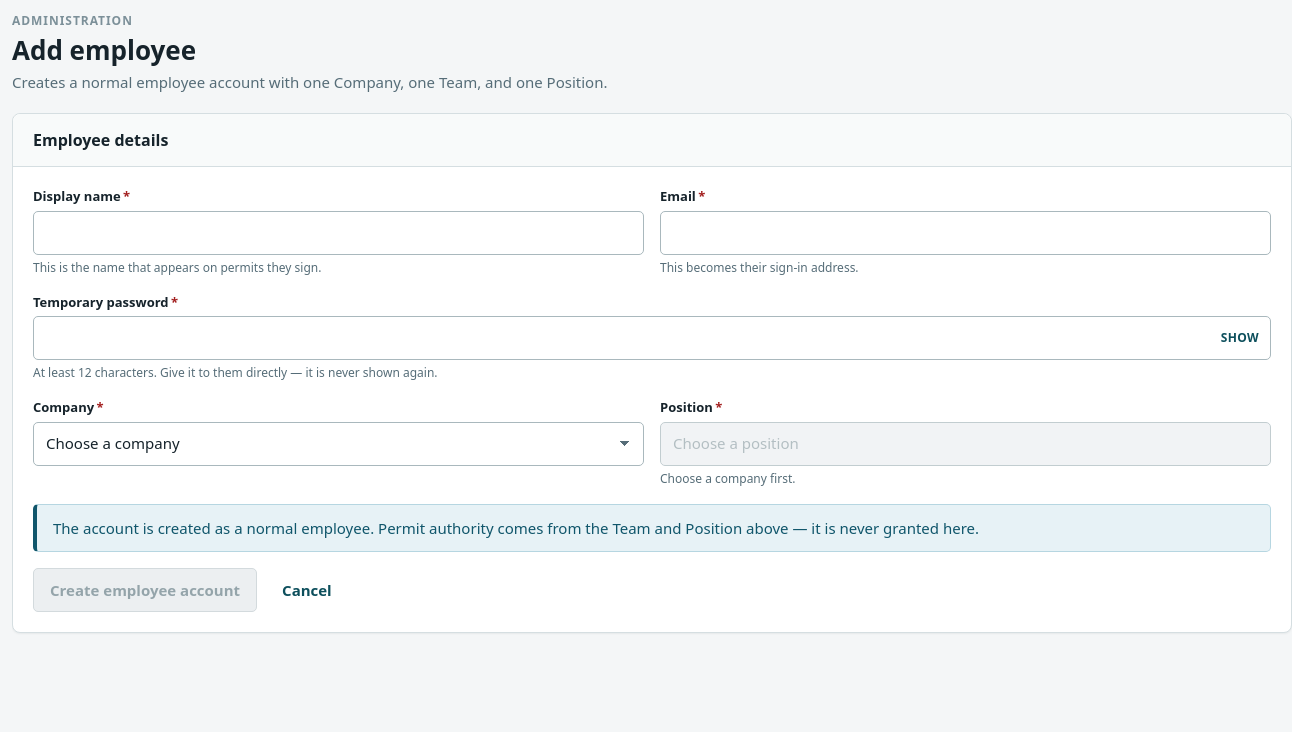
Scenario: the temporary password › is cleared from the form after a FAILED request too
Type "Ayesha Khan" into the field labelled "Display name*".
click(338, 232); type("Ayesha Khan")  # box 33,210 -> 644,254
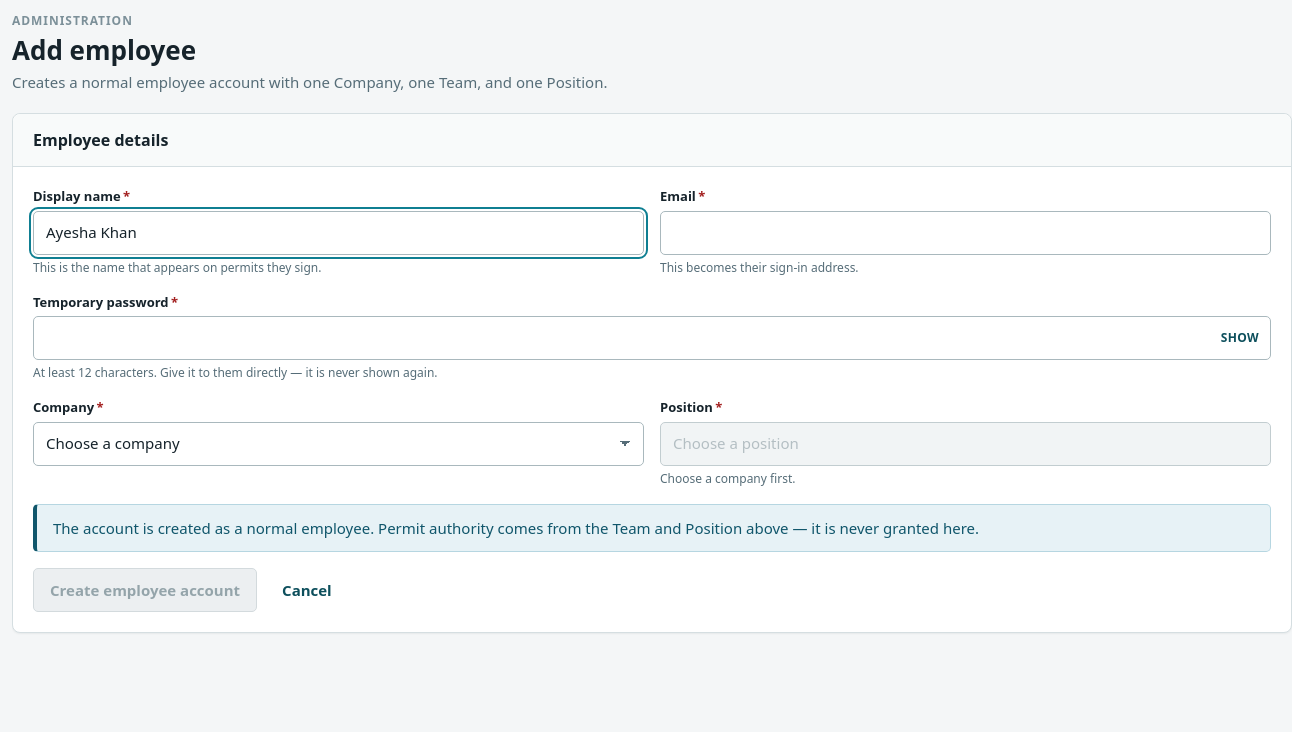
Type "ayesha@example.com" into the field labelled "Email*".
click(966, 232); type("ayesha@example.com")  # box 660,210 -> 1271,254
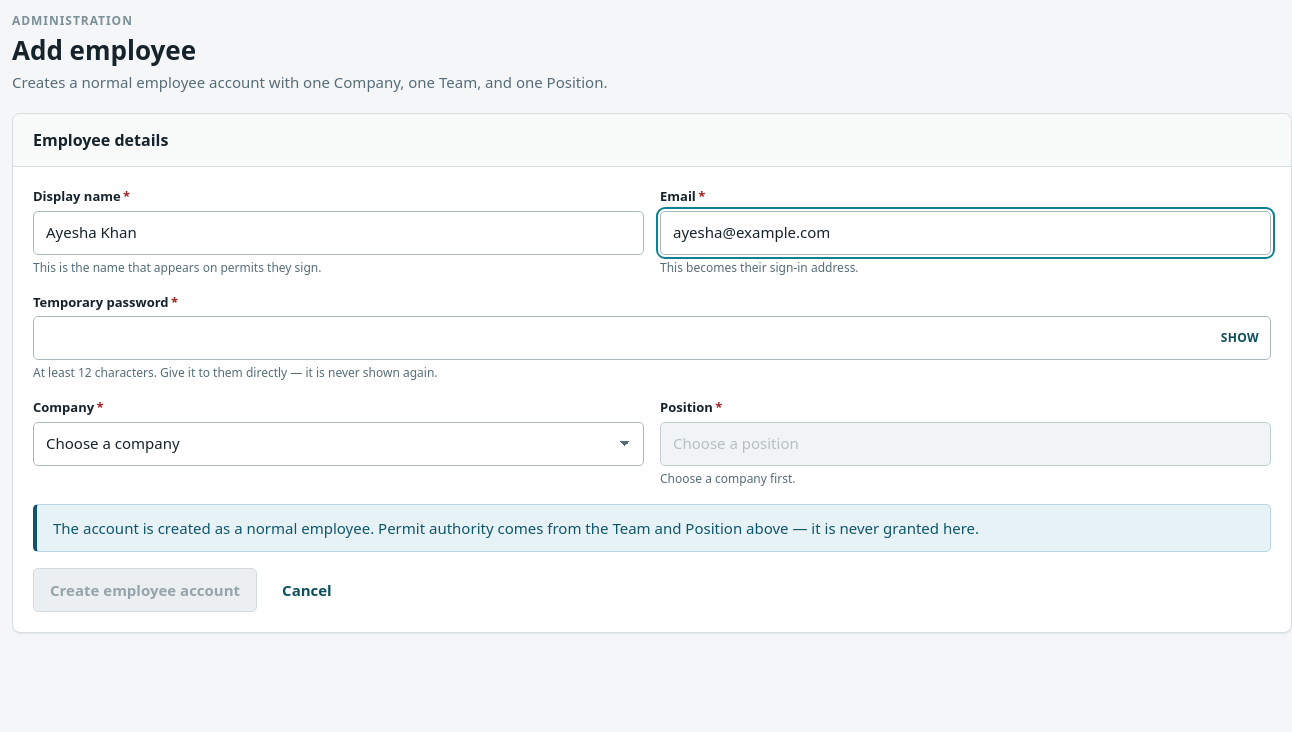
Type "a-temporary-password" into the password field labelled "Temporary password*".
click(652, 338); type("a-temporary-password")  # box 33,316 -> 1271,360
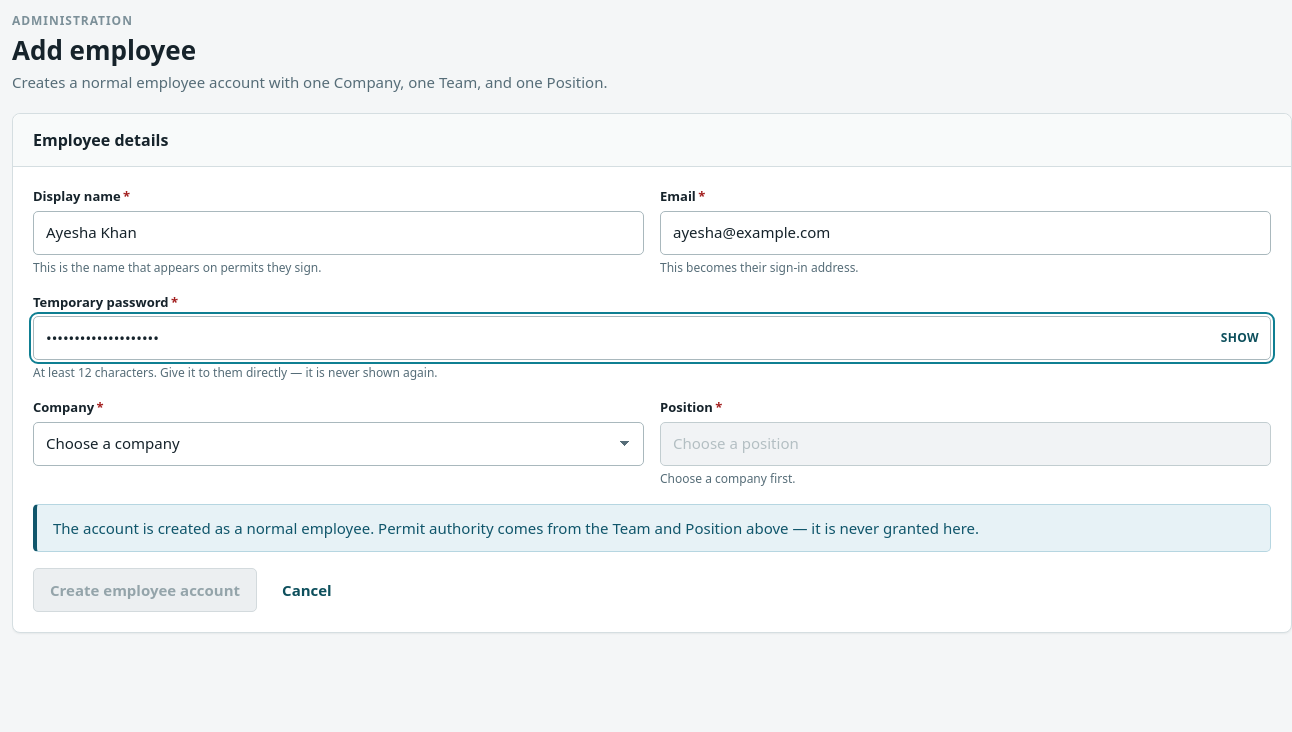
Select "ZPL" in the dropdown labelled "Company*" at (338, 444), box 33,422 -> 644,466
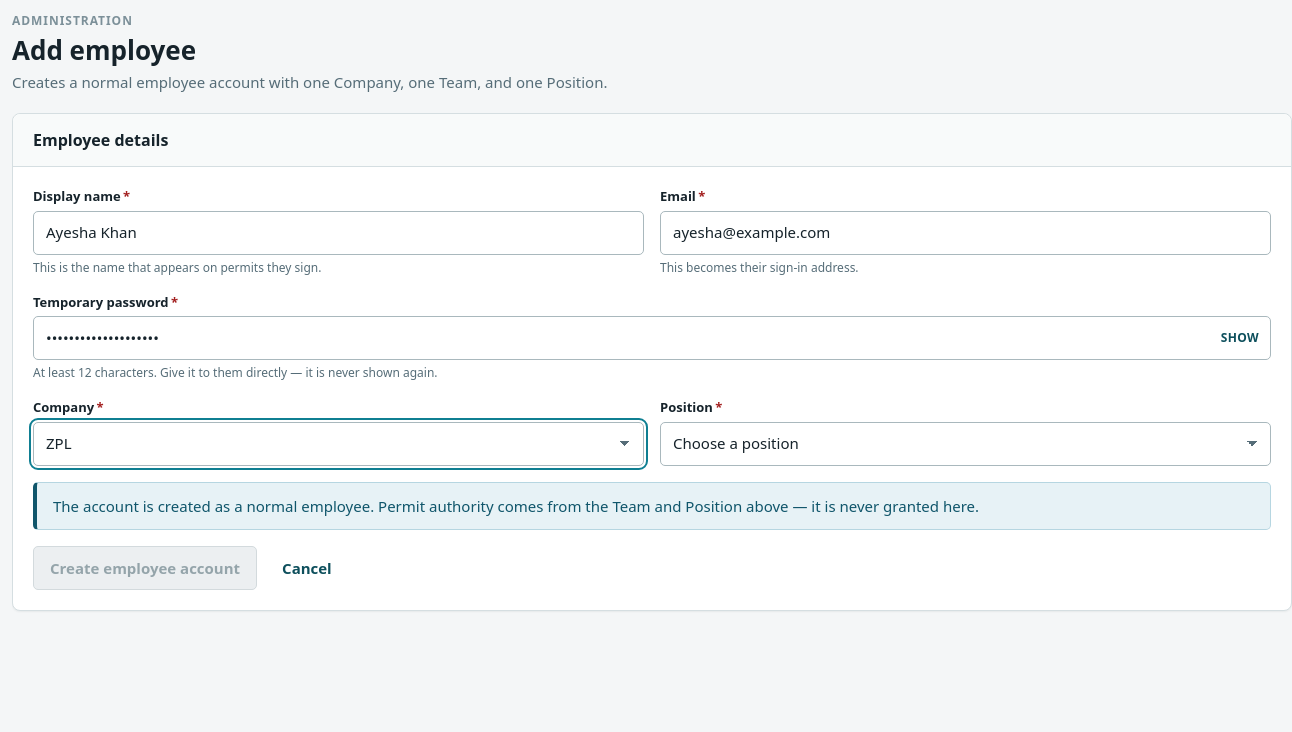
Select "Engineer" in the dropdown labelled "Position*" at (966, 444), box 660,422 -> 1271,466
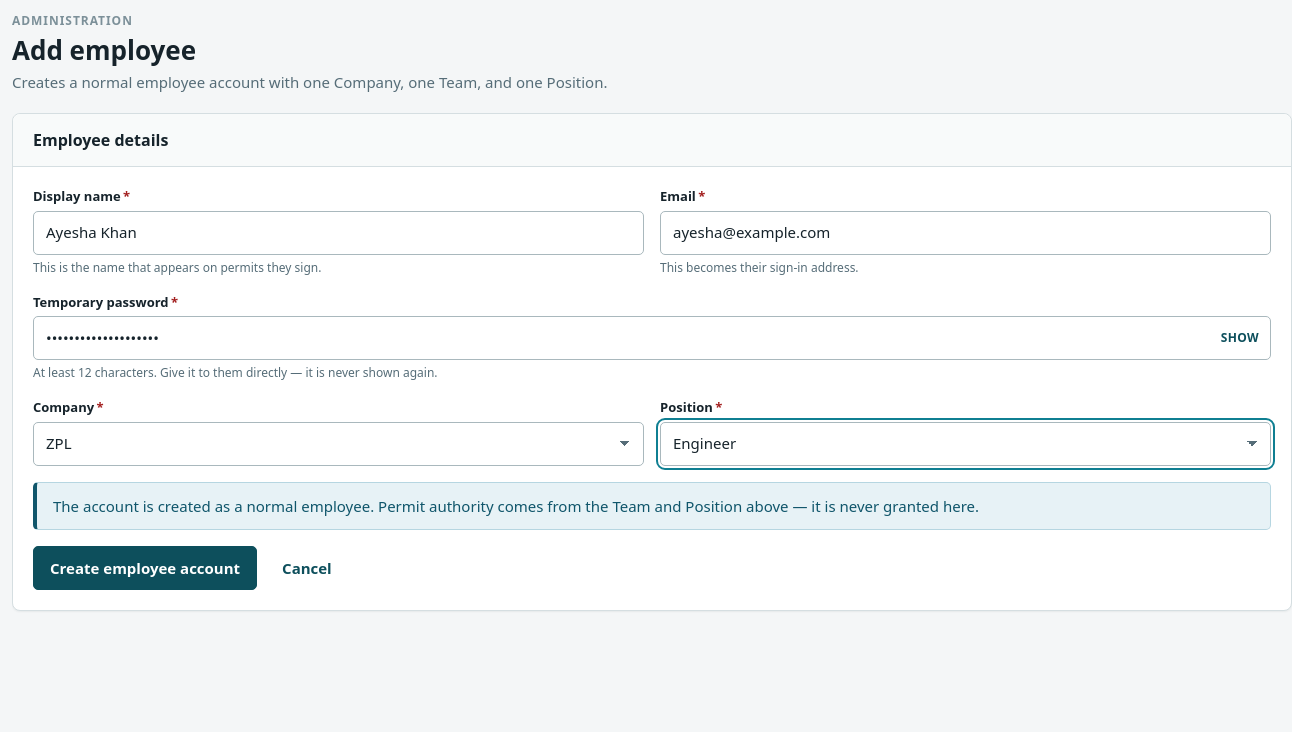
Click the button "Create employee account".
click(145, 568)  # box 33,546 -> 257,590
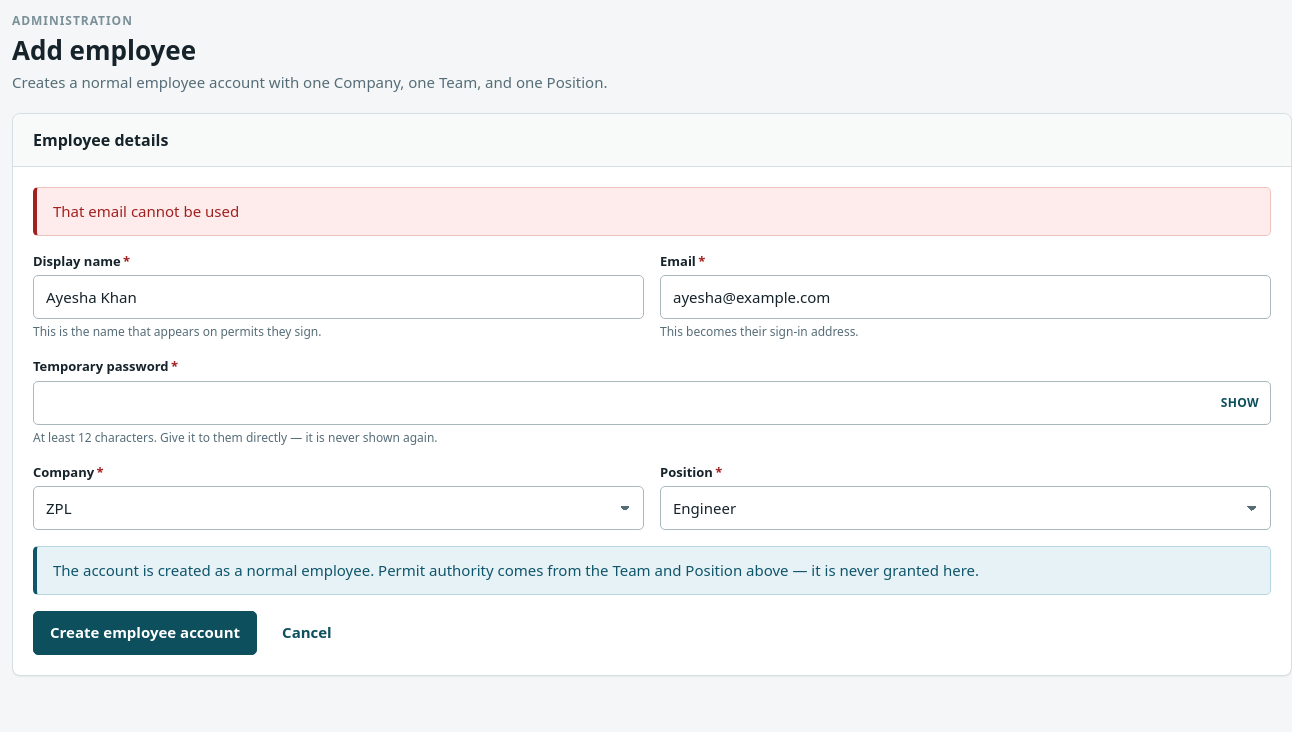
Check: the message "That email cannot be used" is shown, box 33,187 -> 1271,236
Check: the password field labelled "Temporary password*" is empty, box 33,380 -> 1271,424
